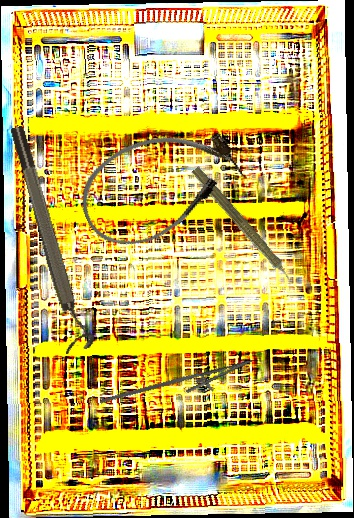Cannula: (66, 107, 253, 263)
Fixation Ring: (6, 121, 97, 355)
Handpiece: (186, 164, 302, 293)
Needle Holder: (100, 341, 257, 432)
